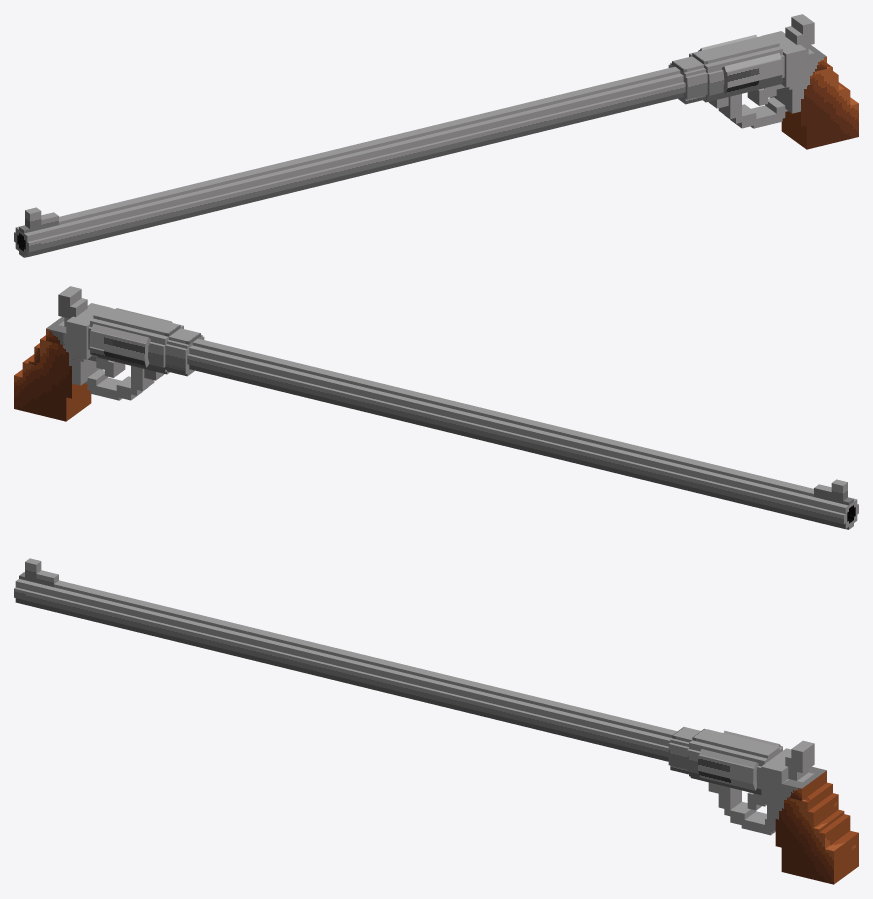
File: revolvercanogrande2.gltf
The picture shows the model from 3 angles, top to bottom: view 1: azimuth 30°, elevation 25°; view 2: azimuth 150°, elevation 25°; view 3: azimuth 330°, elevation 25°; orthographic projection.
Visible parts, largest first — view 1: cube (×14); view 2: cube (×16); view 3: cube (×13).
Boxes of the visible parts, x1=… form: cube (×14): x1=15, y1=31, x2=858, y2=257; cube (×16): x1=14, y1=286, x2=857, y2=529; cube (×13): x1=14, y1=572, x2=858, y2=884.
Bounding box in the file's own units: 17.75 × 2.44 × 1.14.
Materials: 2 (2 with a texture image).
